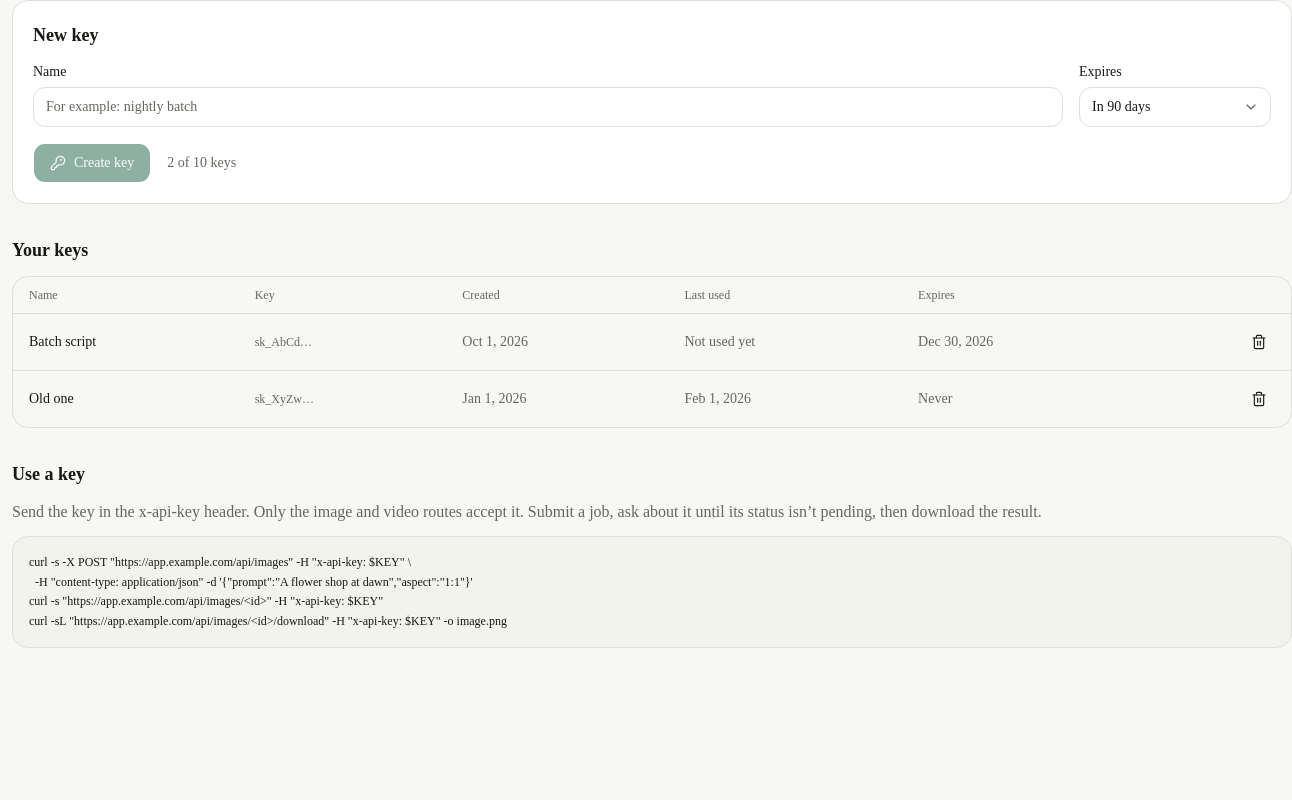
Scenario: reports a failed create
In the field labelled "Name": point(548, 107) 33,87 -> 1063,127, type "Eleventh"
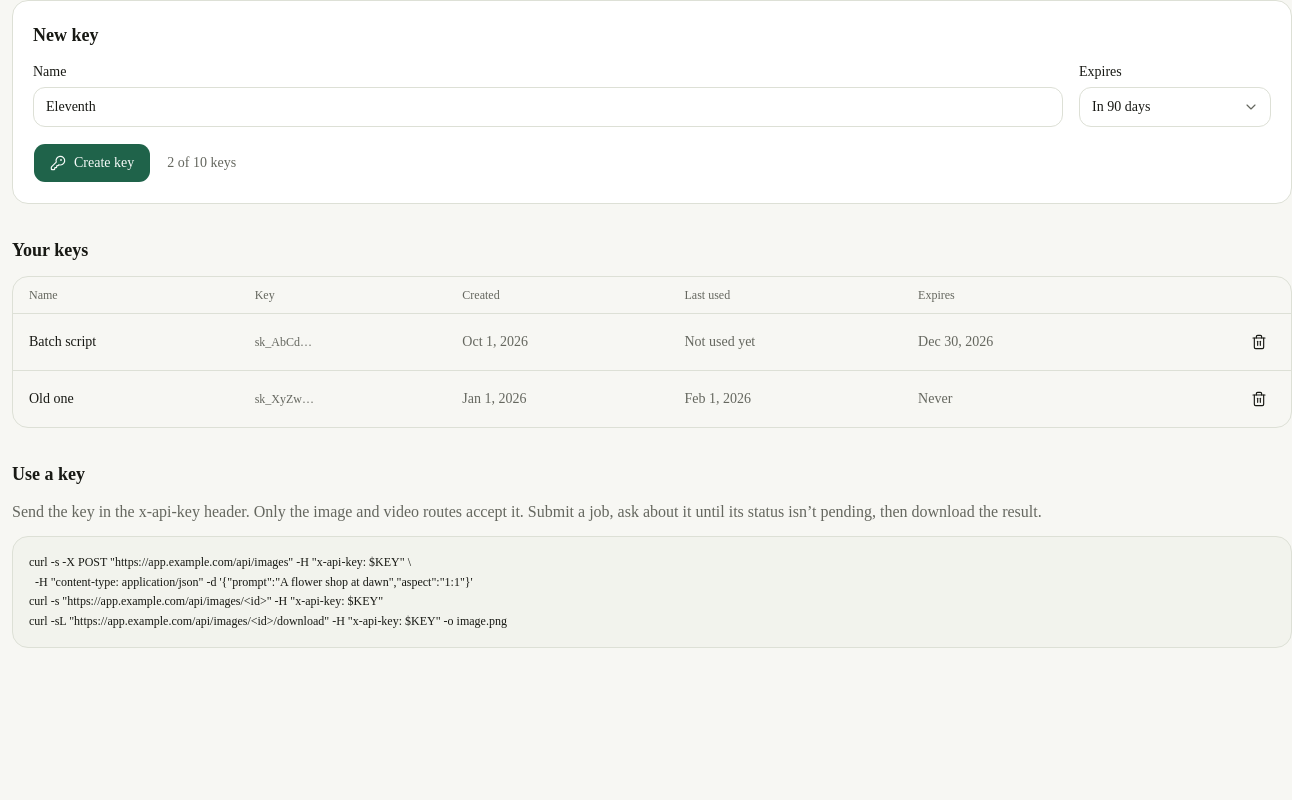
Click the button "Create key": point(92, 163) 33,143 -> 151,183
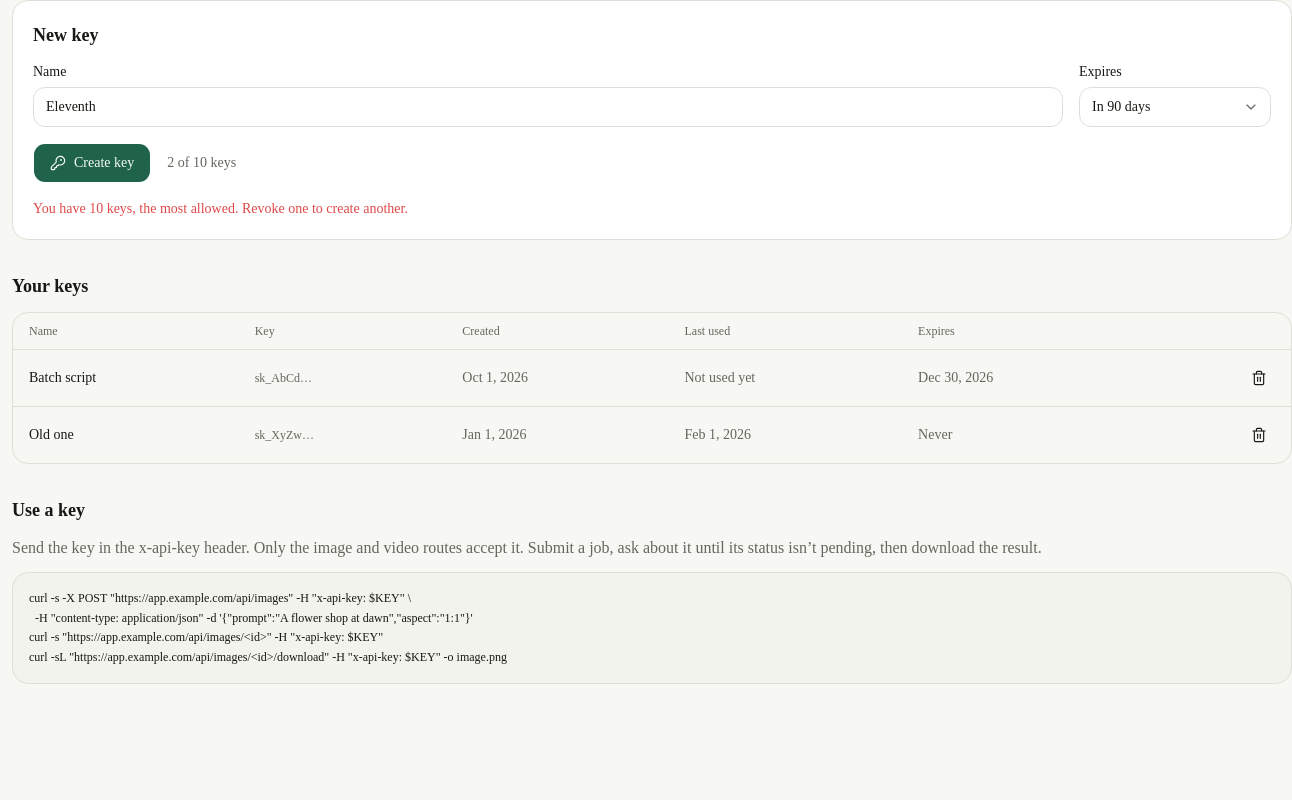
Now the message reads "You have 10 keys, the most allowed. Revoke one to create another.", box 33,201 -> 408,216
